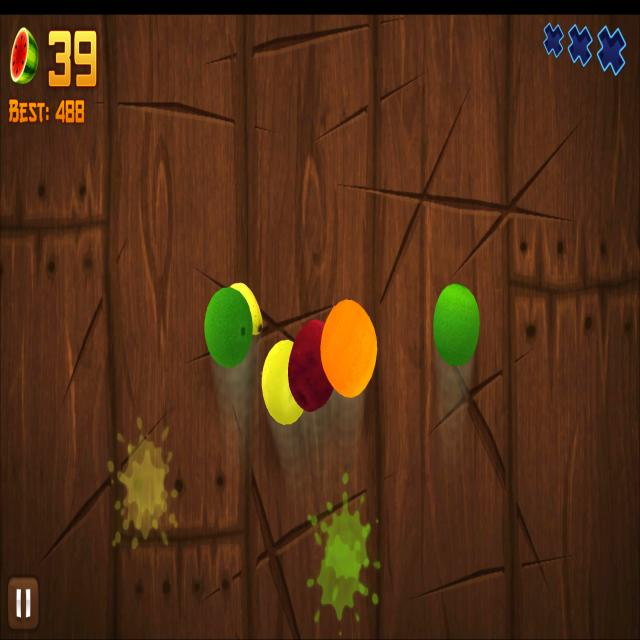fruit: (320, 298, 378, 400), (287, 317, 335, 413), (432, 281, 480, 368), (204, 286, 253, 370), (262, 338, 306, 427), (229, 282, 263, 335)
